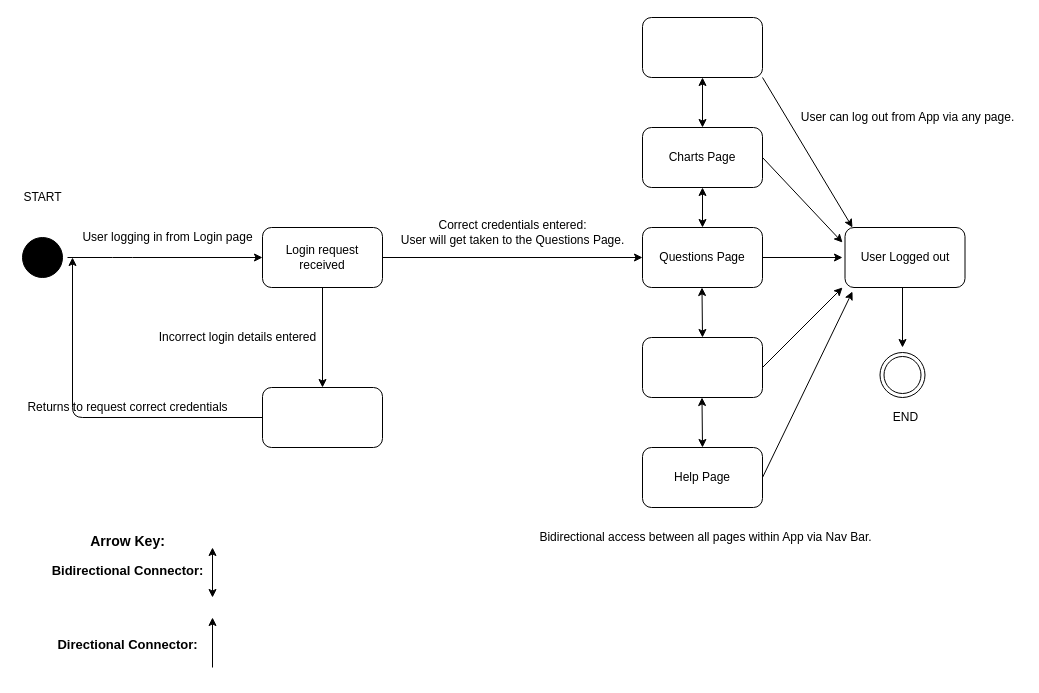
This 1039x693 diagram has some shape labels left out. Each missing label, with the centre of its shape:
"Access Denied" goes at point (322, 417).
"Calendar Page" goes at point (702, 367).
"Falls Page" goes at point (702, 47).
